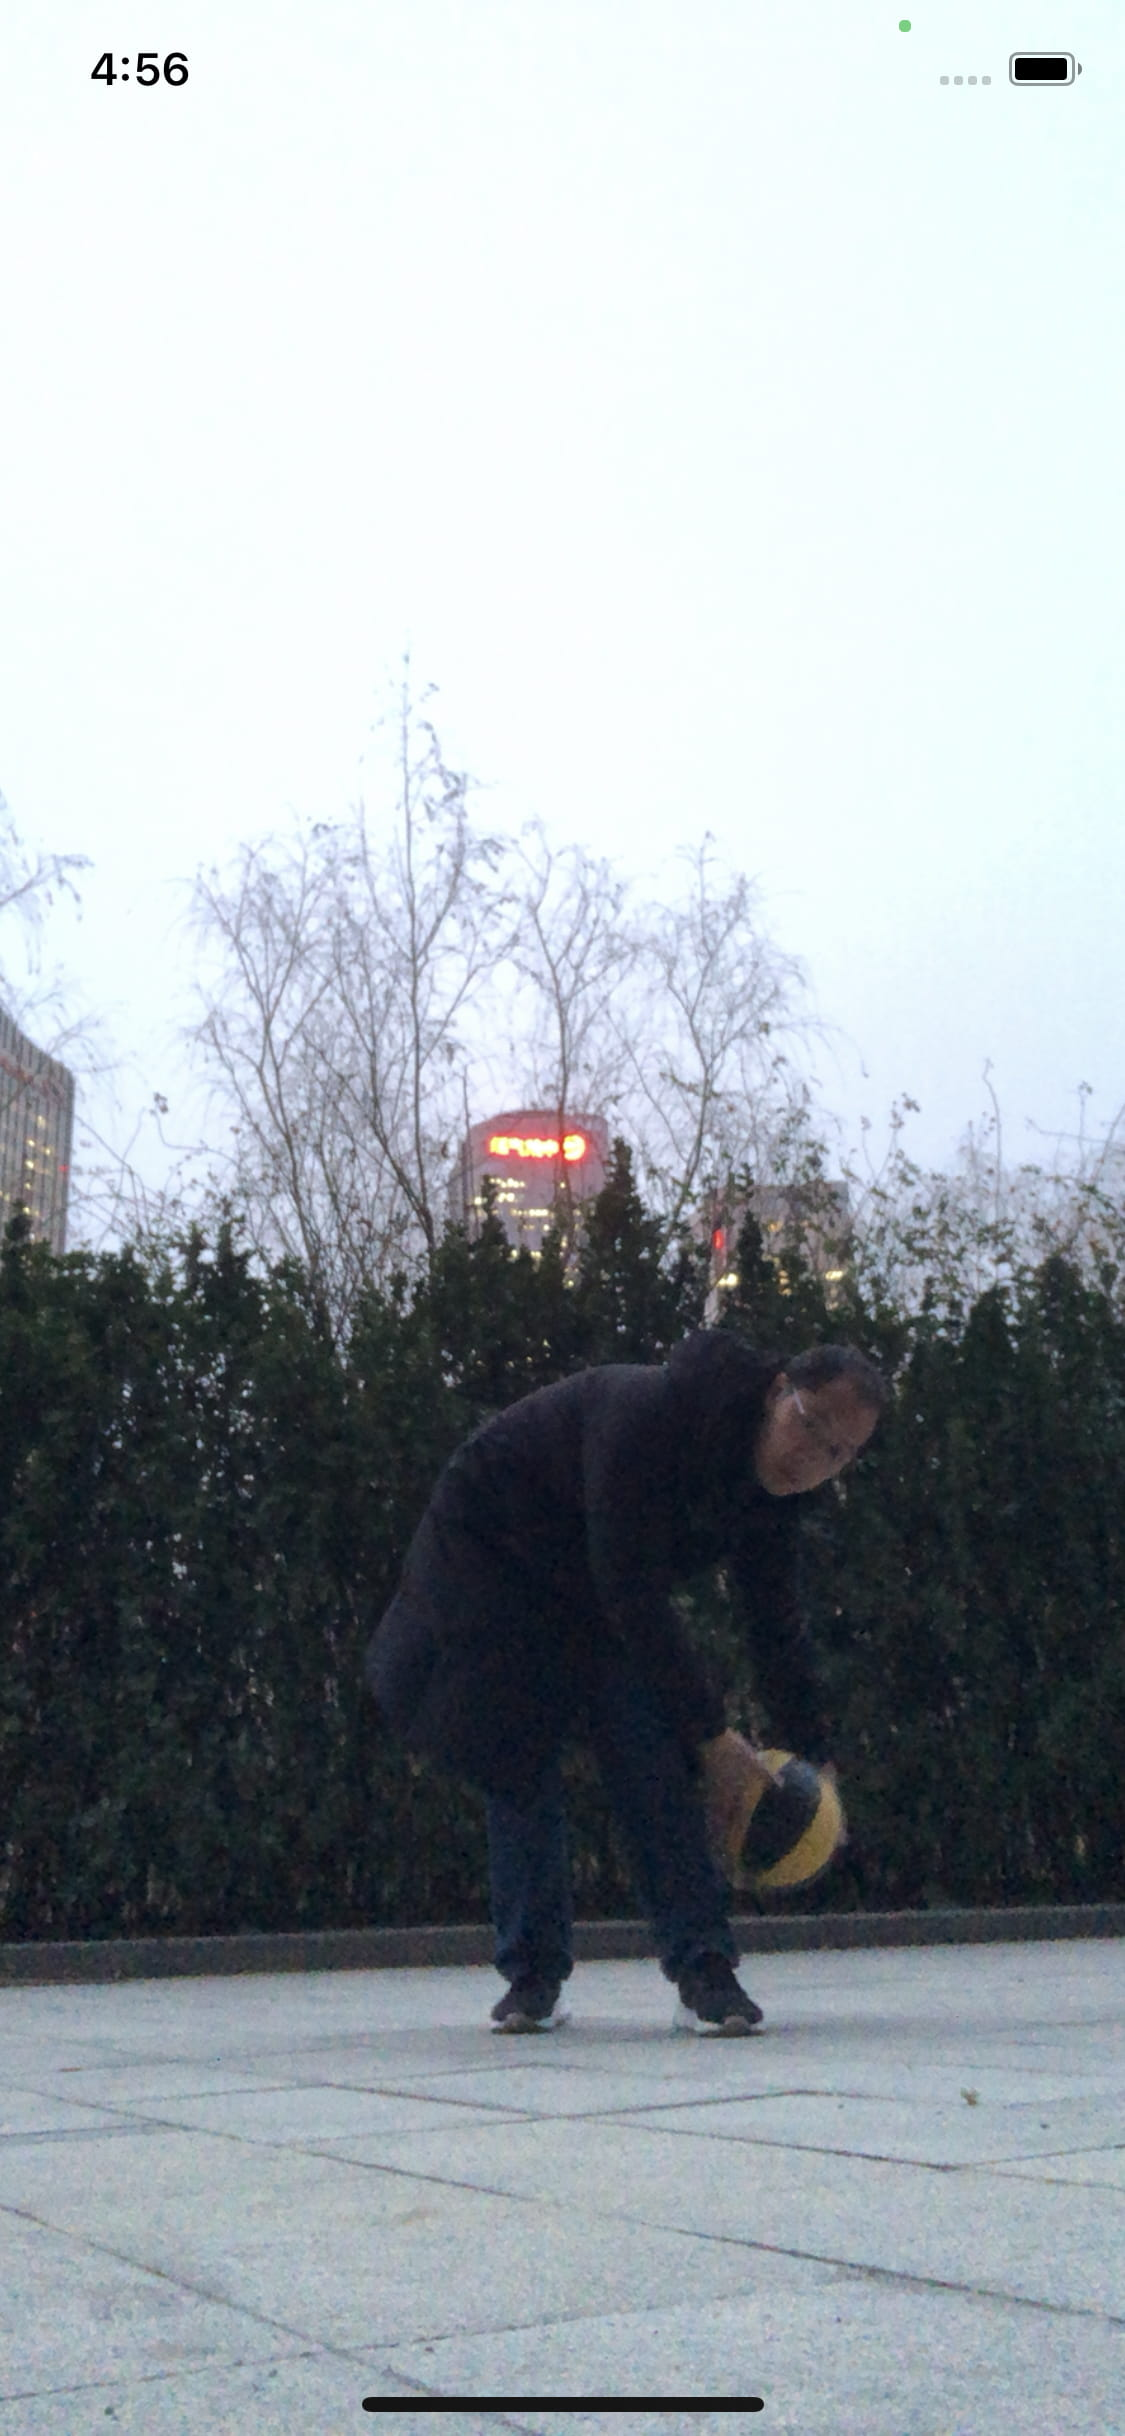ball: (709, 1746, 848, 1886)
